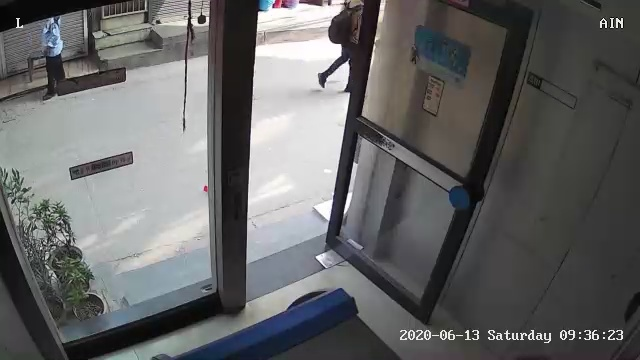open: (190, 7, 536, 332)
